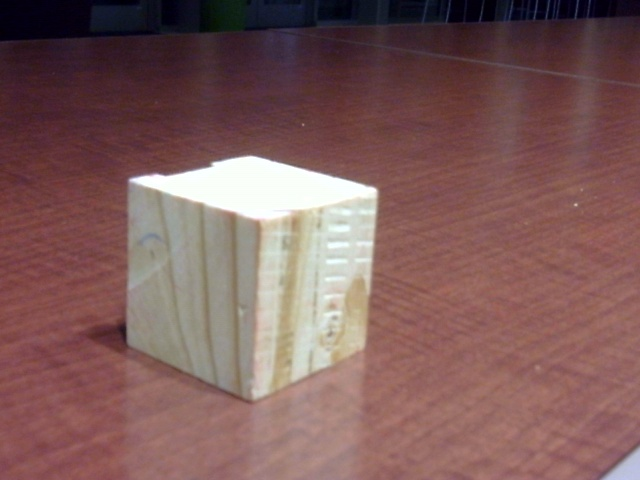NormalBlock: (122, 178, 377, 400)
